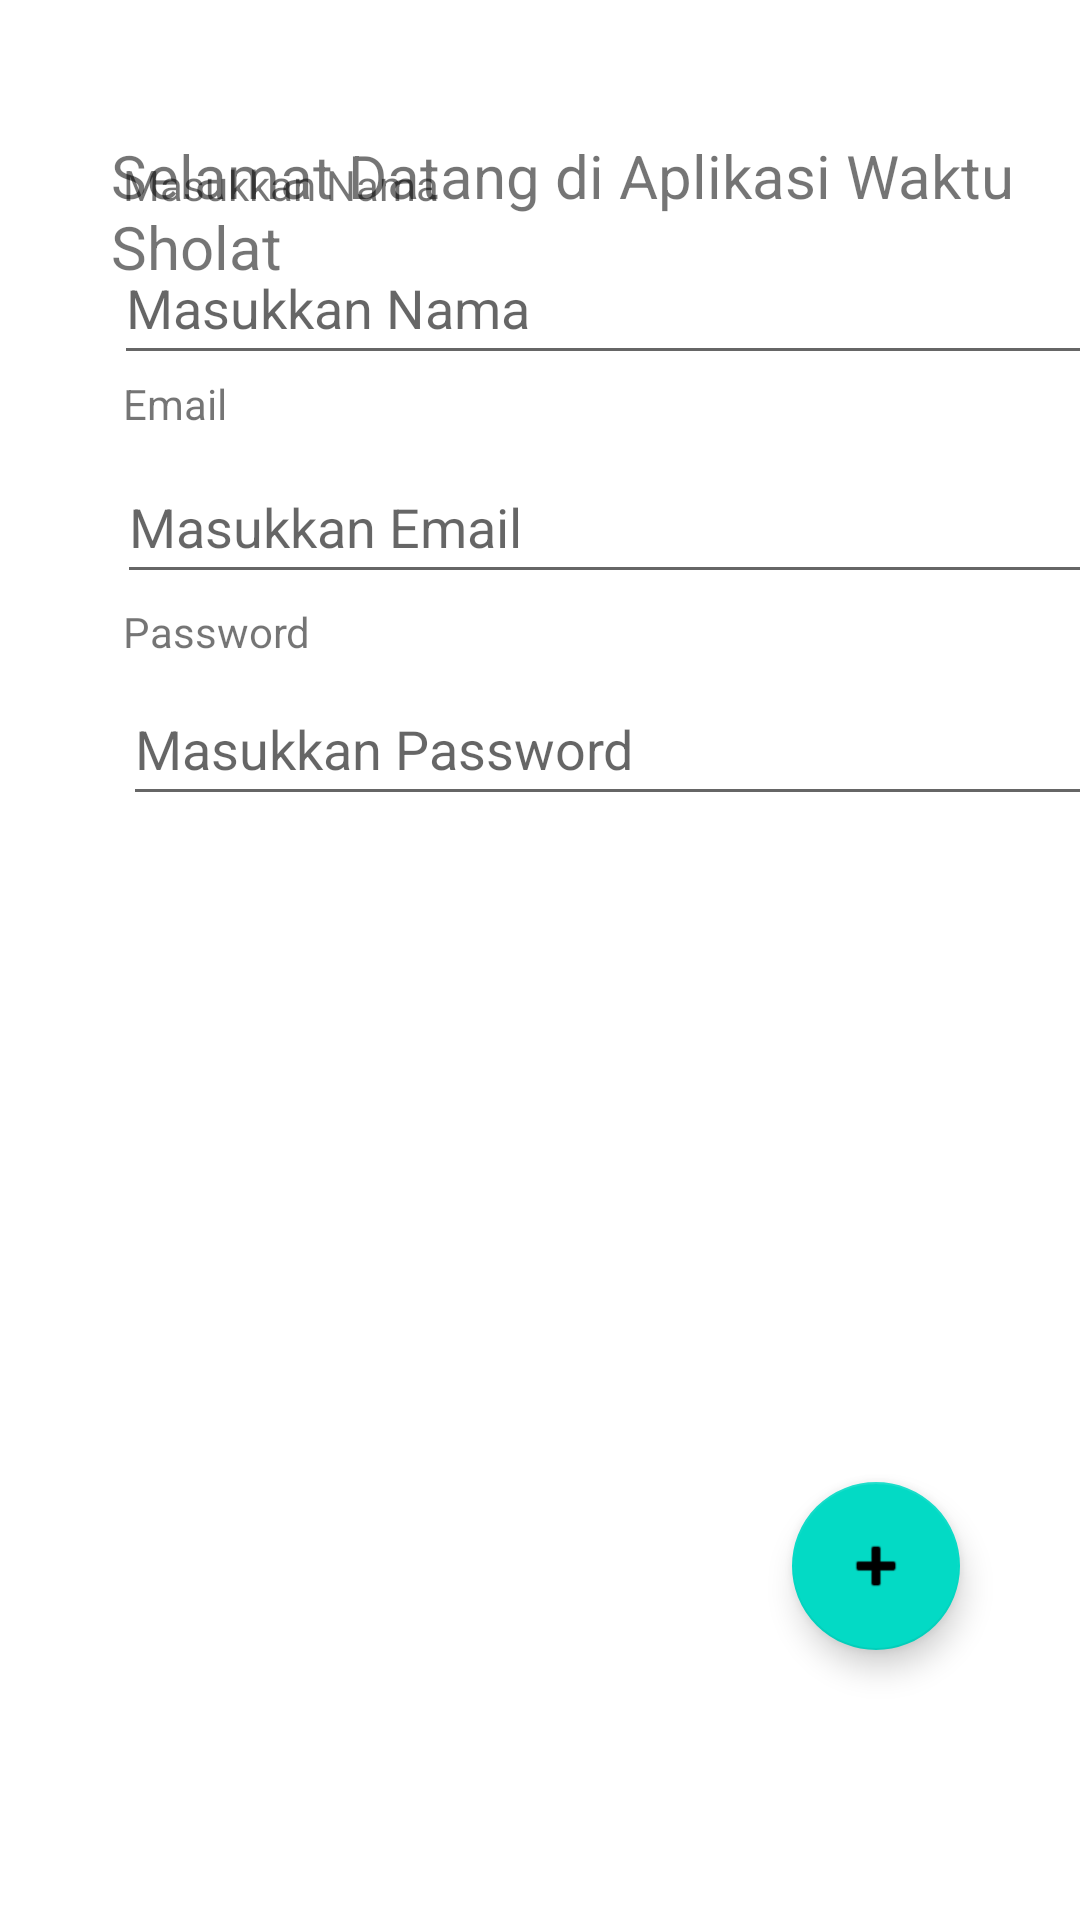

Point at icon controls on the screen. Image size 1080*1920, points as point (x, y).
add: point (876, 1566)
